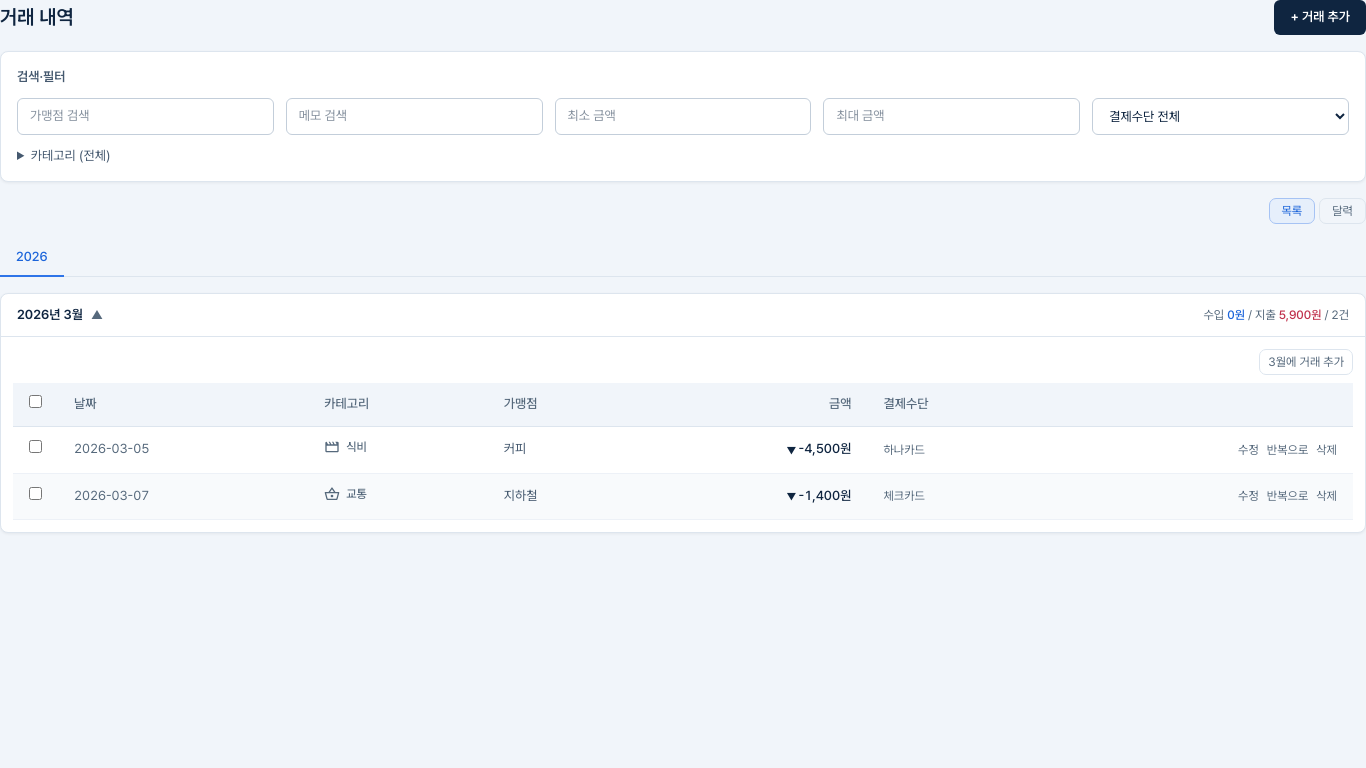
Test case: 일괄 삭제 › 취소하면 지우지 않고 선택도 그대로 둔다
Click the checkbox named "2026-03-05 커피 거래 선택".
click(36, 447)  # box x1=29 y1=440 x2=42 y2=453
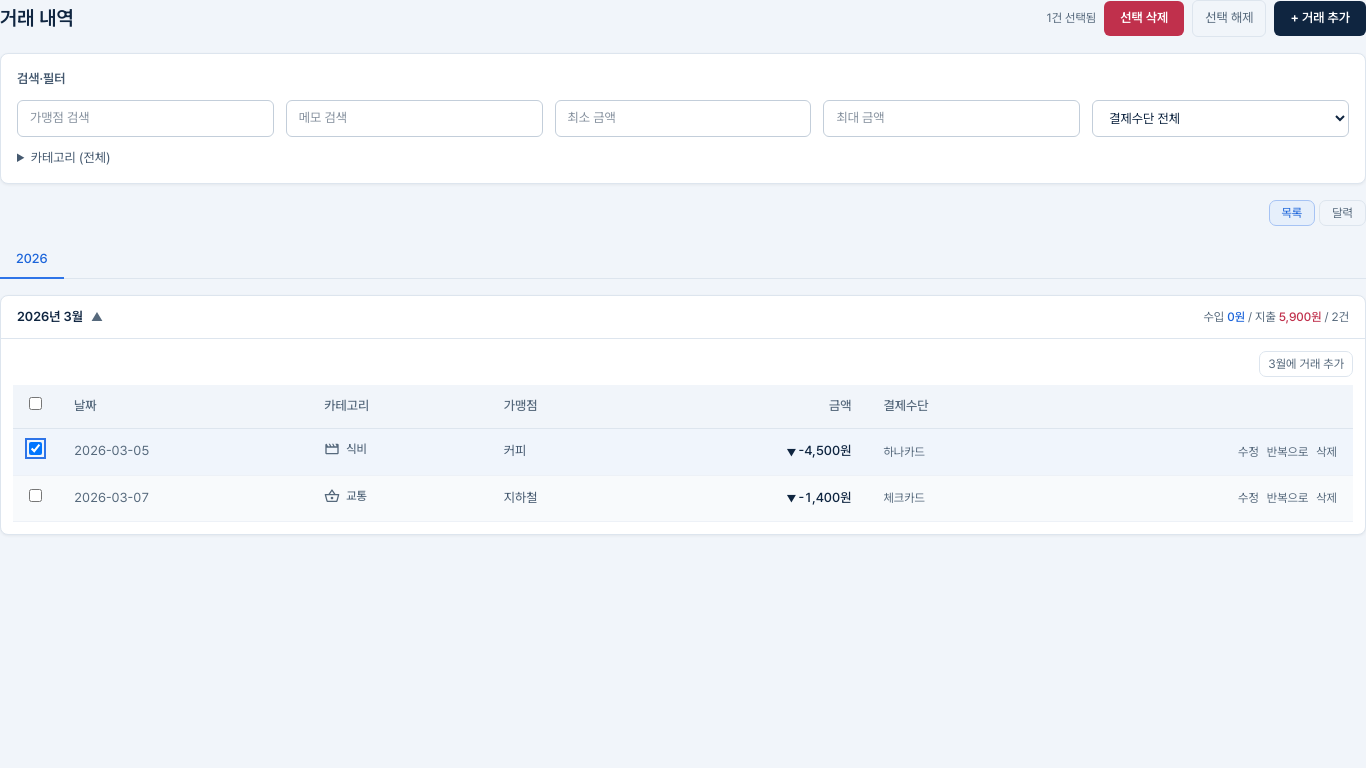
Click the checkbox named "2026-03-07 지하철 거래 선택".
click(36, 496)  # box x1=29 y1=489 x2=42 y2=502
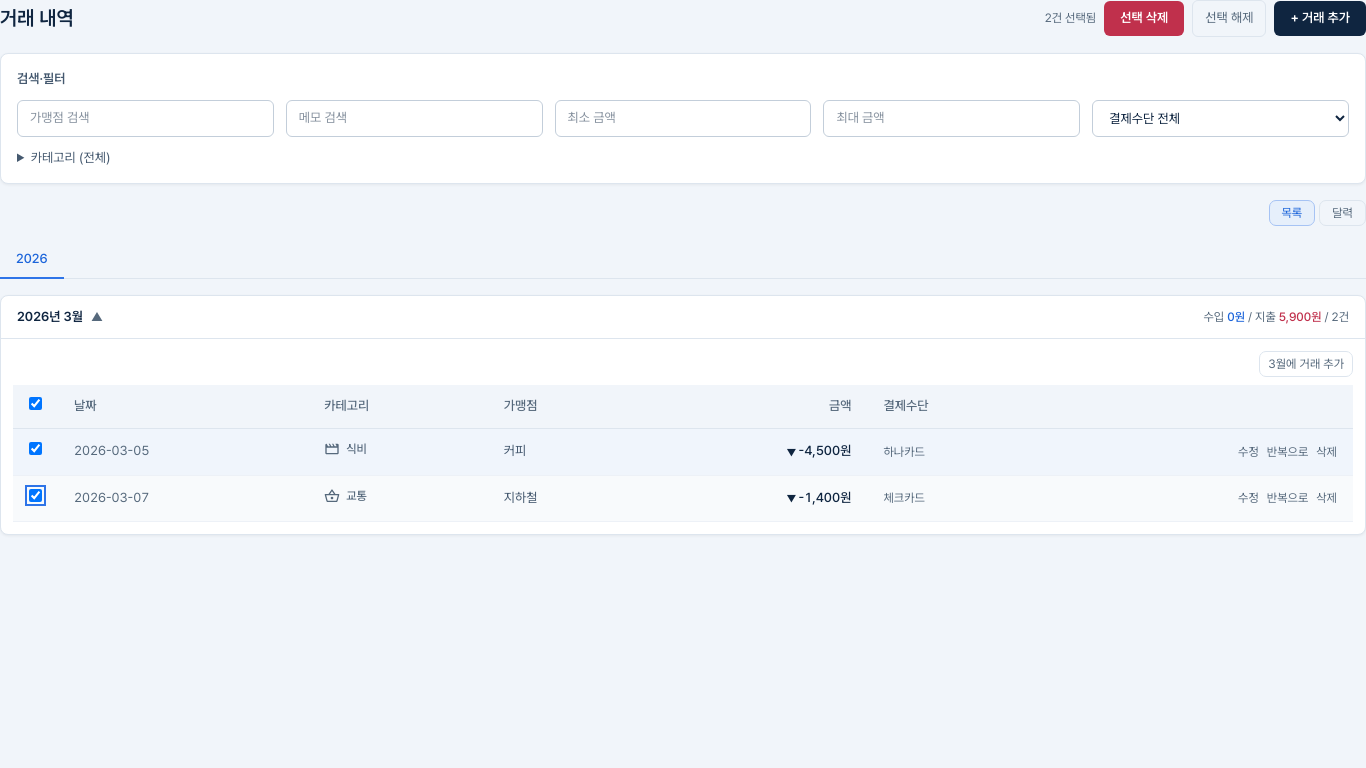
Click the button "선택 삭제".
click(1144, 18)  # box x1=1104 y1=1 x2=1184 y2=36
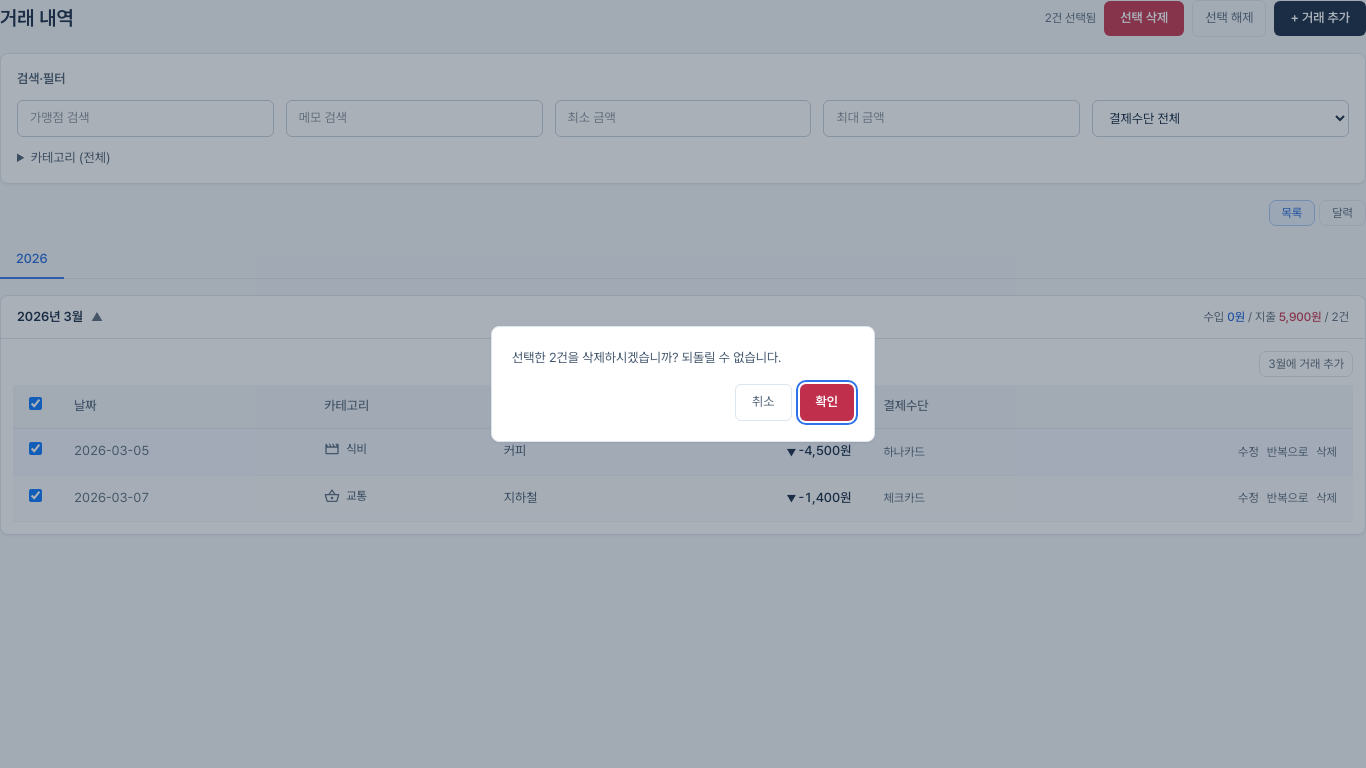
Click the button "취소".
click(763, 403)  # box x1=735 y1=384 x2=792 y2=421
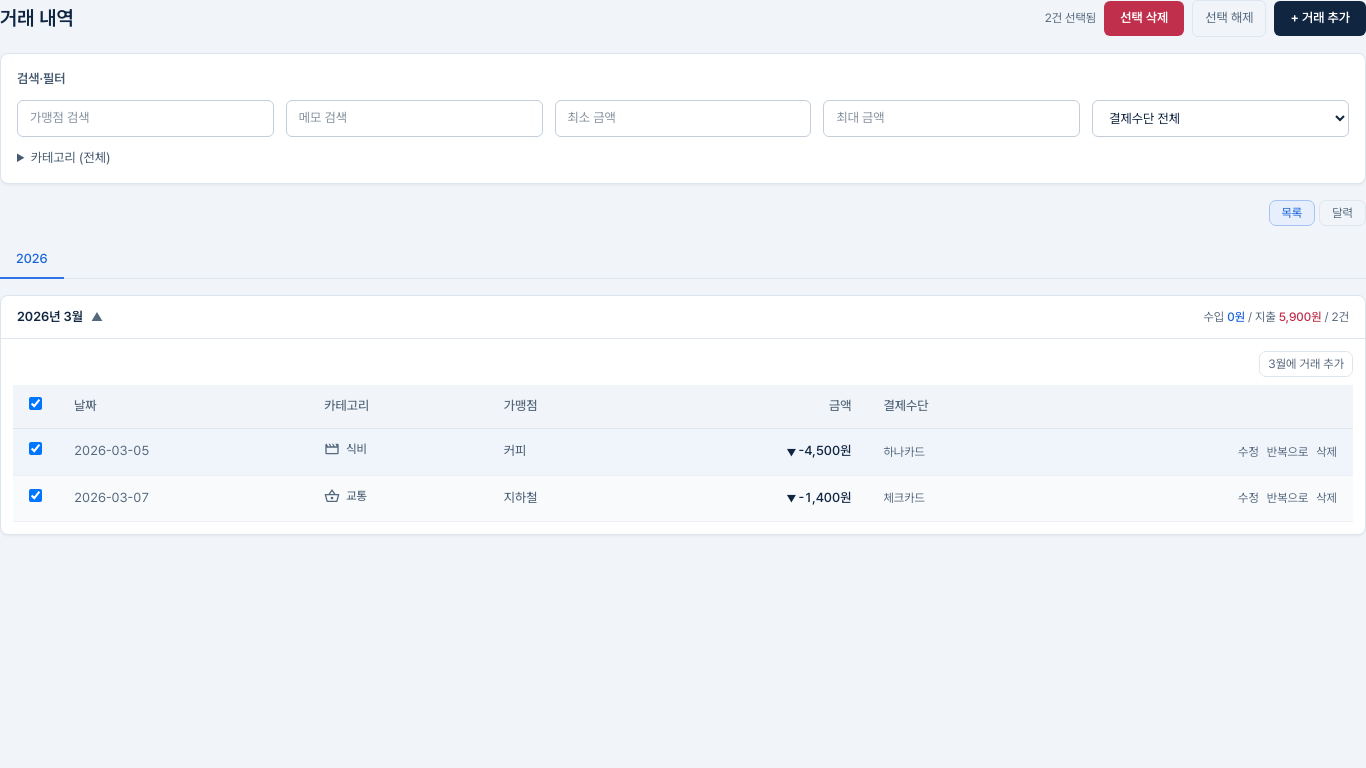
Now the text "2건 선택됨" is shown, box x1=1045 y1=10 x2=1096 y2=26
Now the dialog is gone
